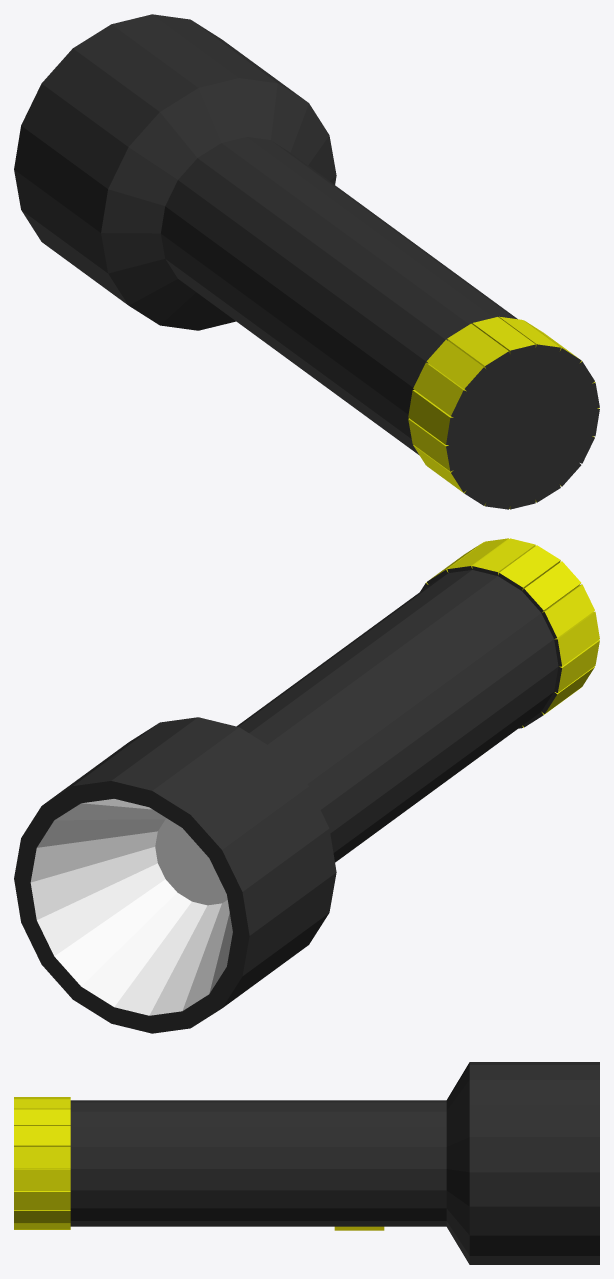
File: ArincYanar_Final.fbx
3 renders of one model, top to bottom at view 1: azimuth 30°, elevation 25°; view 2: azimuth 150°, elevation 25°; view 3: azimuth 270°, elevation 25°, orthographic. The views are drawn at different scales.
Parts seen in each view (by area): view 1: Cylinder.001; view 2: Cylinder.001; view 3: Cylinder.001.
Part boxes in pixels (x1,y1,x2,y2): Cylinder.001: (14, 14, 599, 509); Cylinder.001: (14, 538, 599, 1033); Cylinder.001: (14, 1062, 599, 1264).
Size of the model in its own units: 466 by 459 by 1340.
